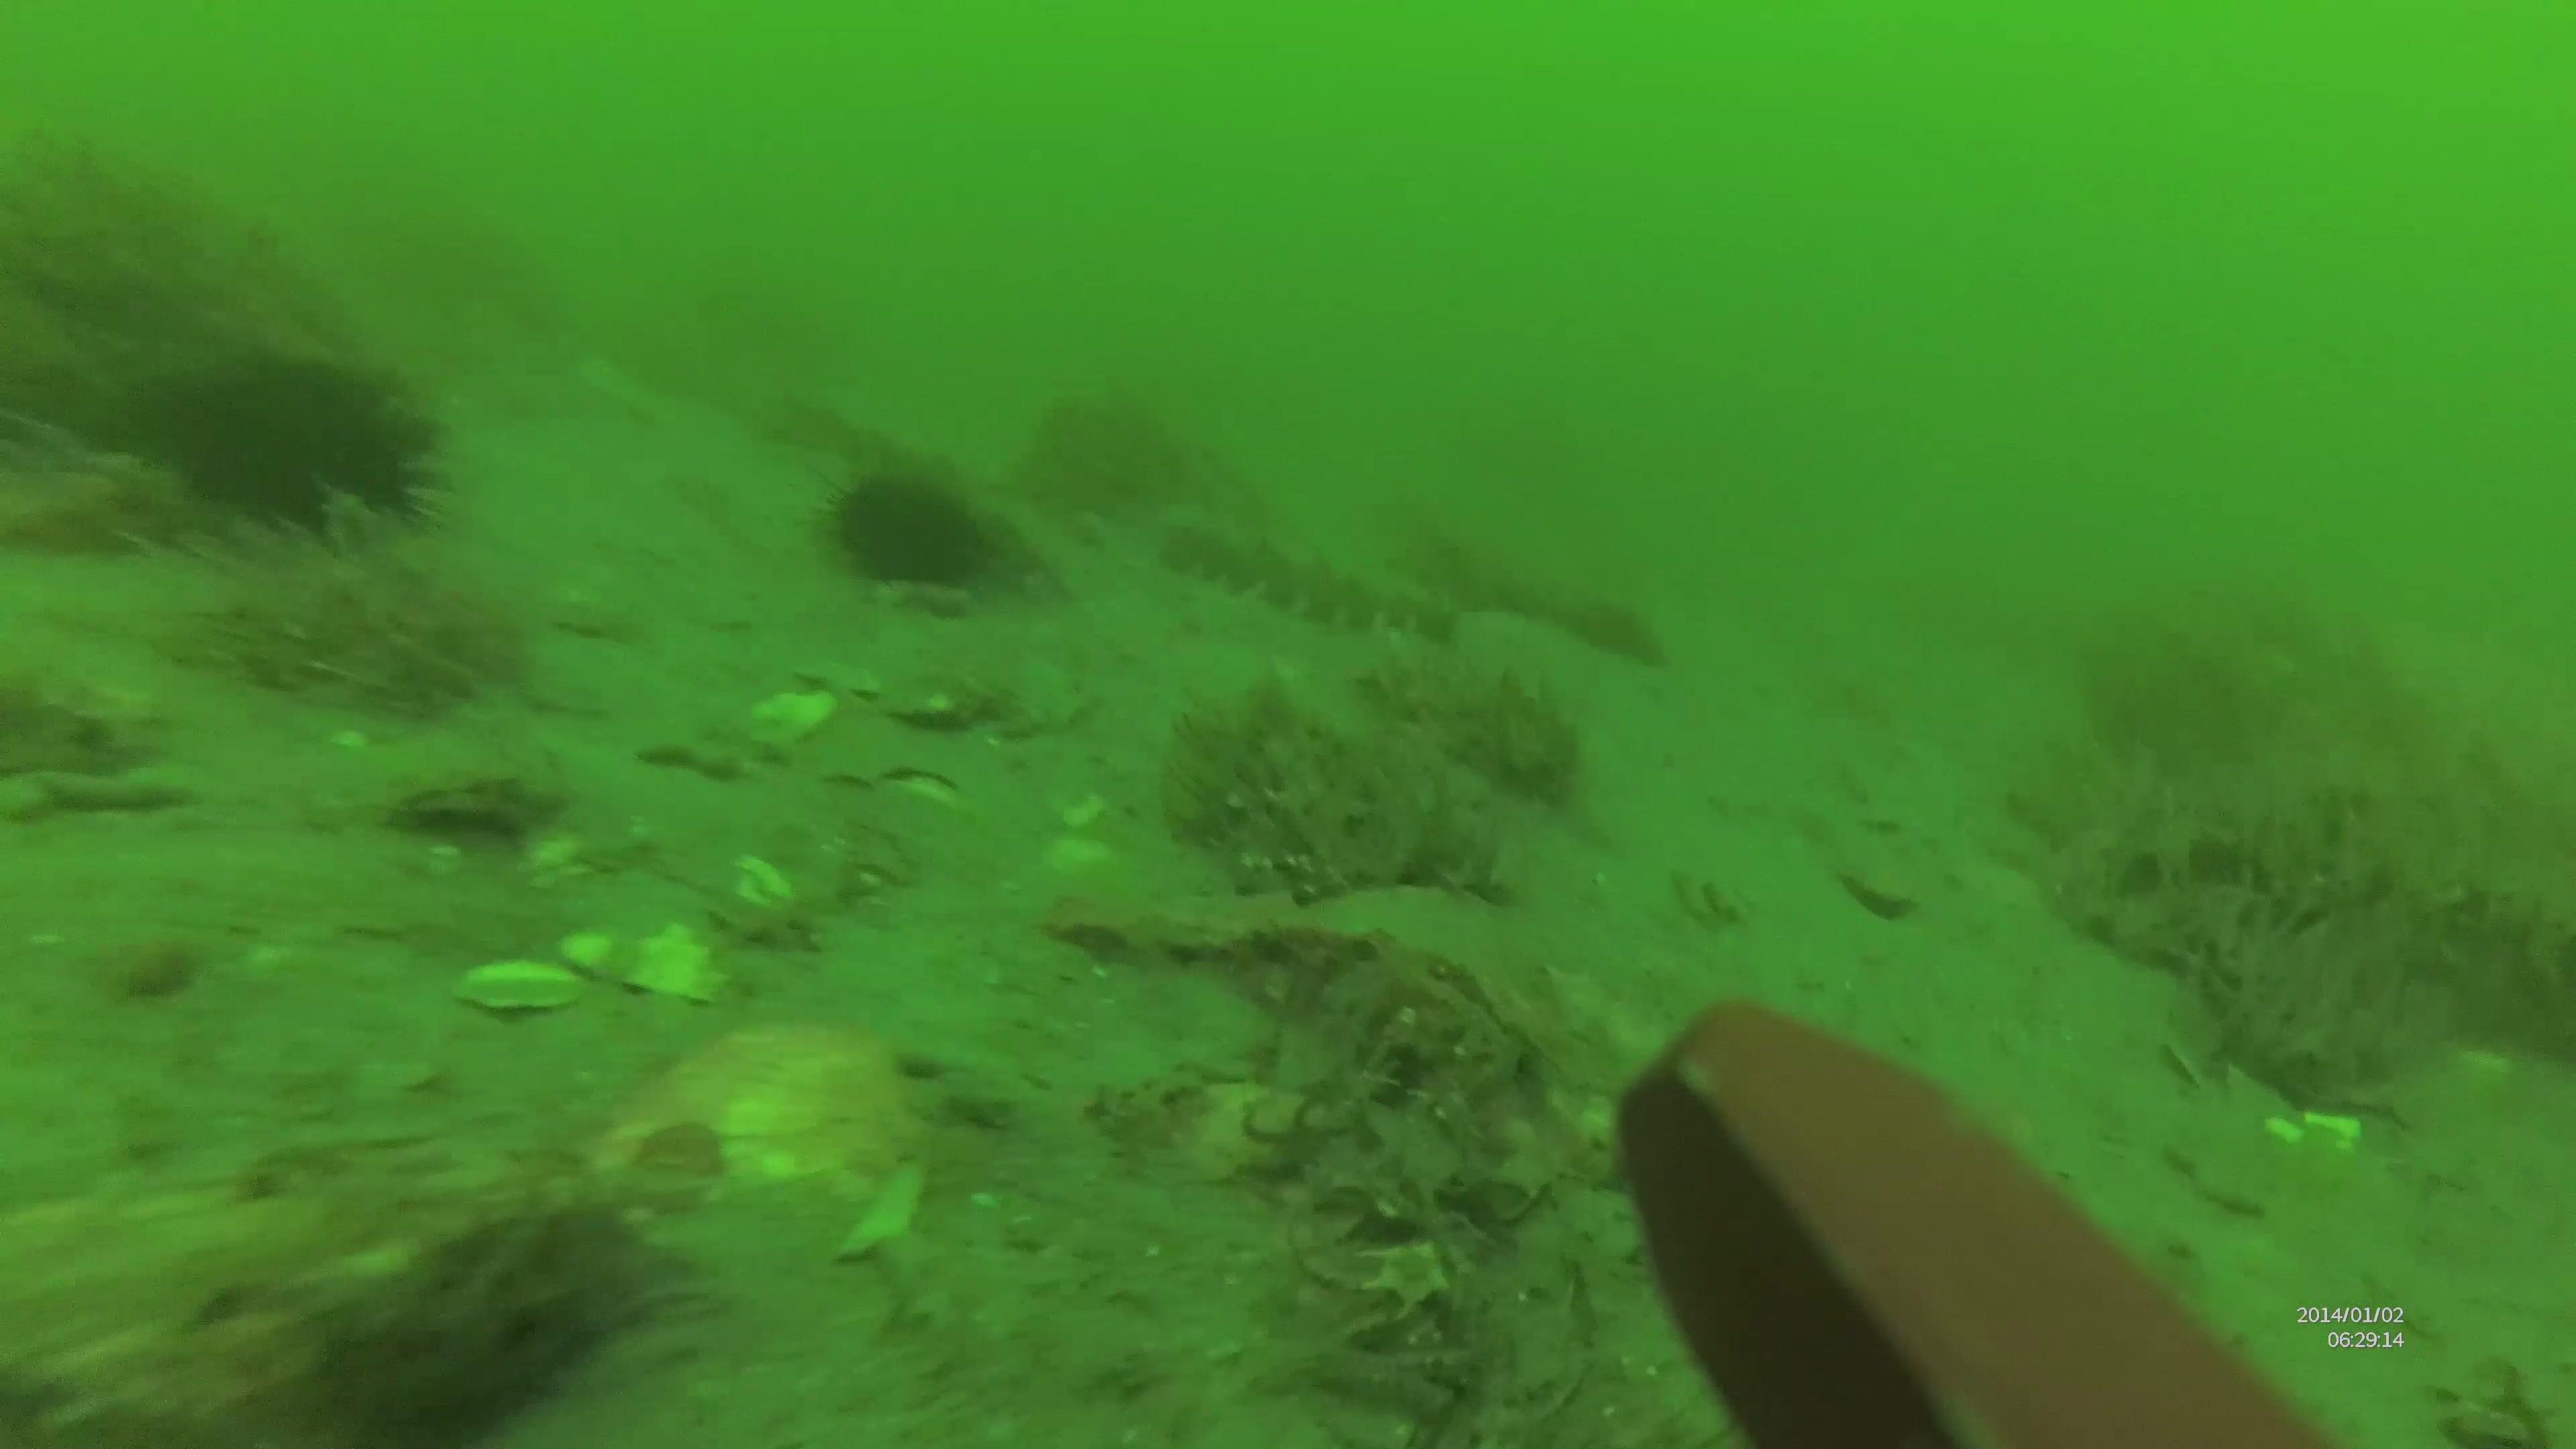echinus: (182, 354, 465, 536), (821, 462, 1010, 591)
holothurian: (1146, 517, 1470, 642)
